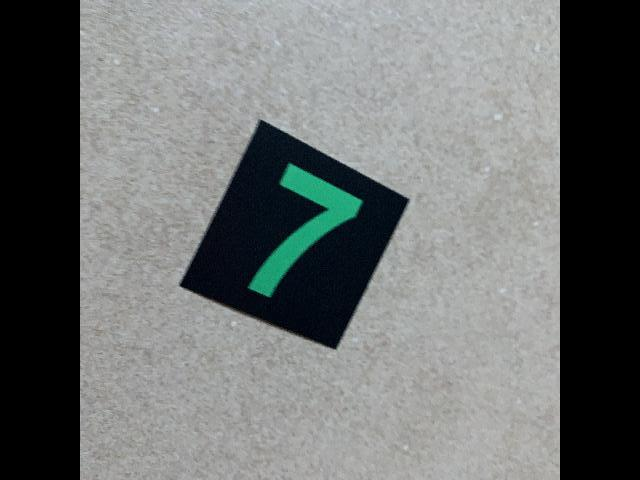seven: (175, 116, 413, 358)
